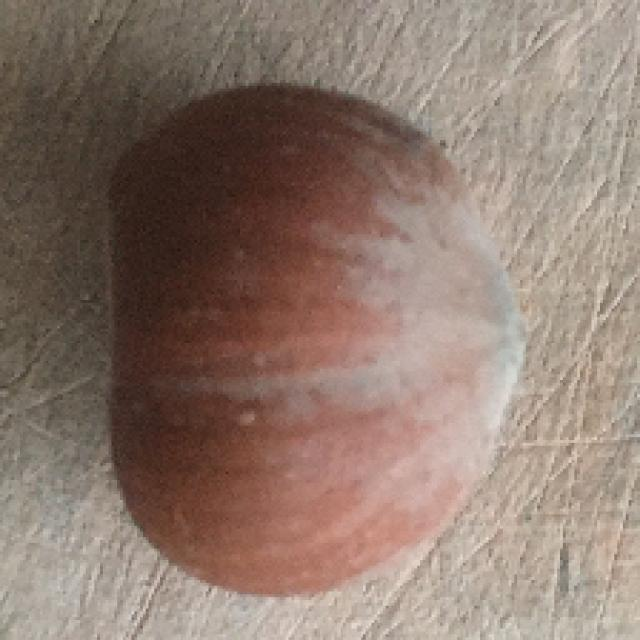QualityHazelnut: (99, 85, 528, 597)
